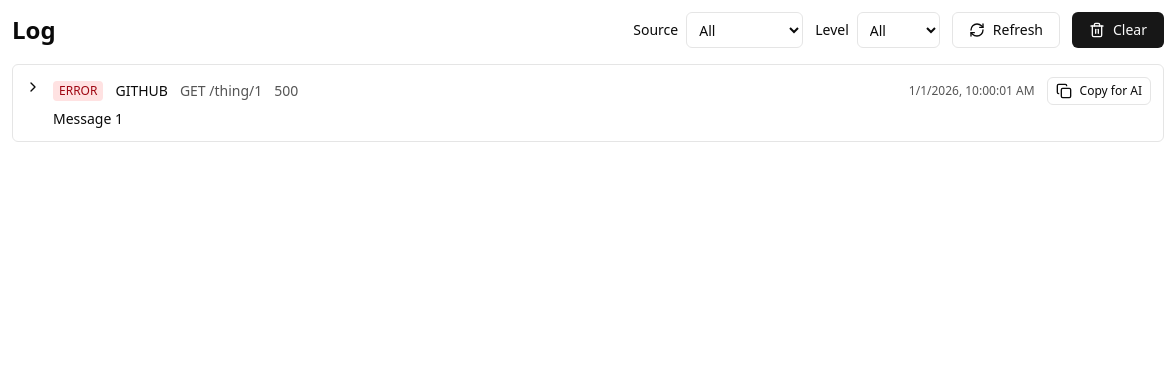
Test: Log page › expands an entry to show request, response and stack trace
The width and height of the screenshot is (1176, 392).
Click the text "Message 1".
click(88, 118)  # box [53, 109, 123, 128]
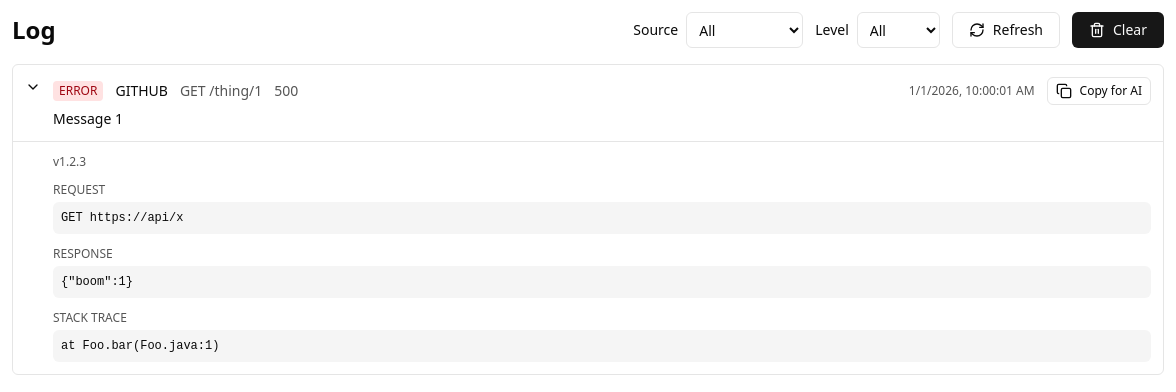
Expected: the list item with test id "log-entry" shows "GET https://api/x", [61, 211, 183, 225]
Expected: the list item with test id "log-entry" shows "{\"boom\":1}", [61, 275, 133, 289]
Expected: the list item with test id "log-entry" shows "at Foo.bar(Foo.java:1)", [61, 339, 219, 353]
